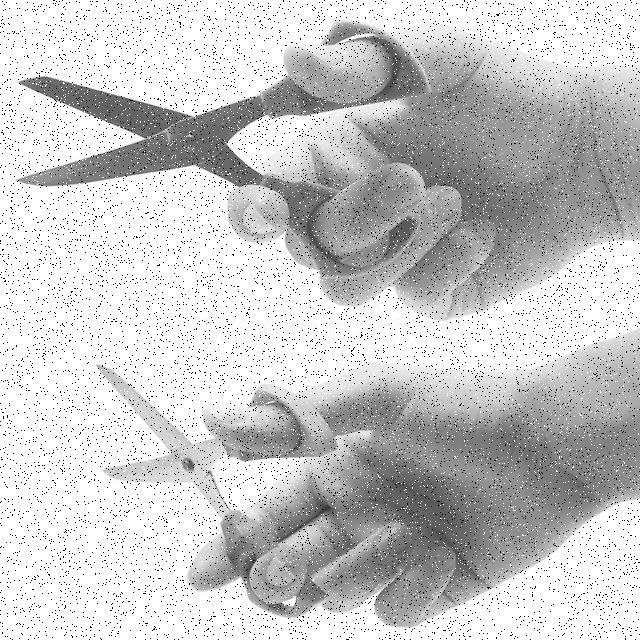scissors: (14, 15, 437, 282), (91, 354, 343, 624)
